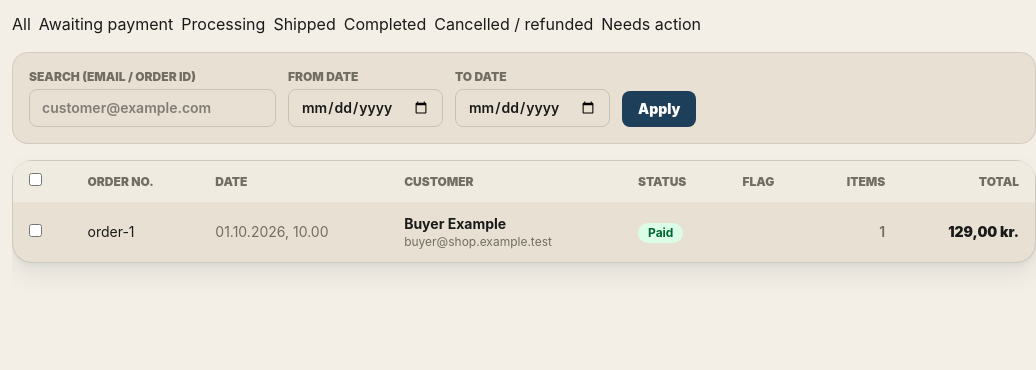
Test: the workspace's bulk select › reads a shop's label and order, and offers nothing beside the curated list
Click the checkbox named "Select order order-1".
click(36, 230)  # box [29,224,42,237]
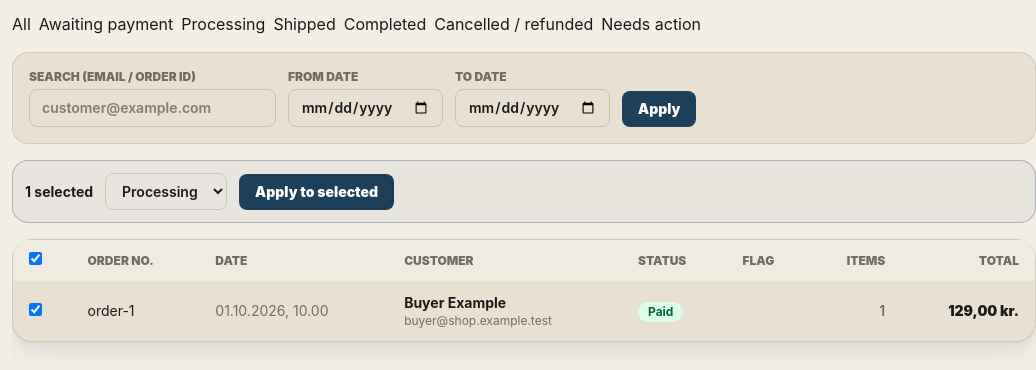
Check: the dropdown shows "Processing", box [105,173,227,210]
